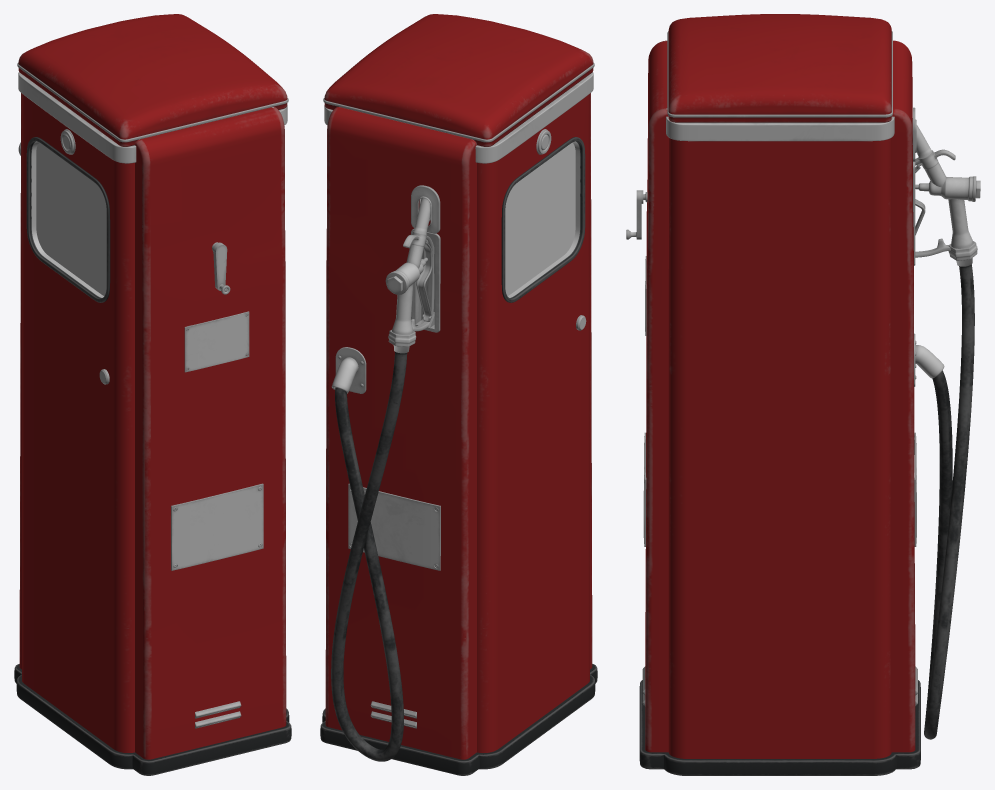
The model's file is SM_Gaspump.fbx.
3 views of the same model, side by side, from view 1: azimuth 30°, elevation 25°; view 2: azimuth 150°, elevation 25°; view 3: azimuth 270°, elevation 25° (orthographic). The views are drawn at different scales.
Parts seen in each view (by area): view 1: SM_Gaspump_LOD0; view 2: SM_Gaspump_LOD0; view 3: SM_Gaspump_LOD0.
Boxes of the visible parts, x1,y1,x2,y2 form: SM_Gaspump_LOD0: (14, 14, 291, 775); SM_Gaspump_LOD0: (320, 14, 597, 775); SM_Gaspump_LOD0: (626, 14, 980, 775).
Bounding box in the file's own units: 50.84 × 84.24 × 180.
Materials: 2 (1 with a texture image).
